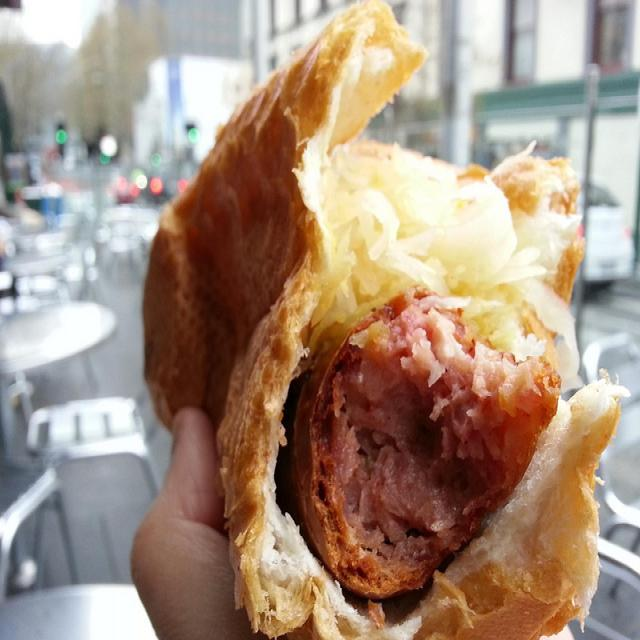Vehicle: (491, 126, 637, 293), (108, 162, 160, 206)
